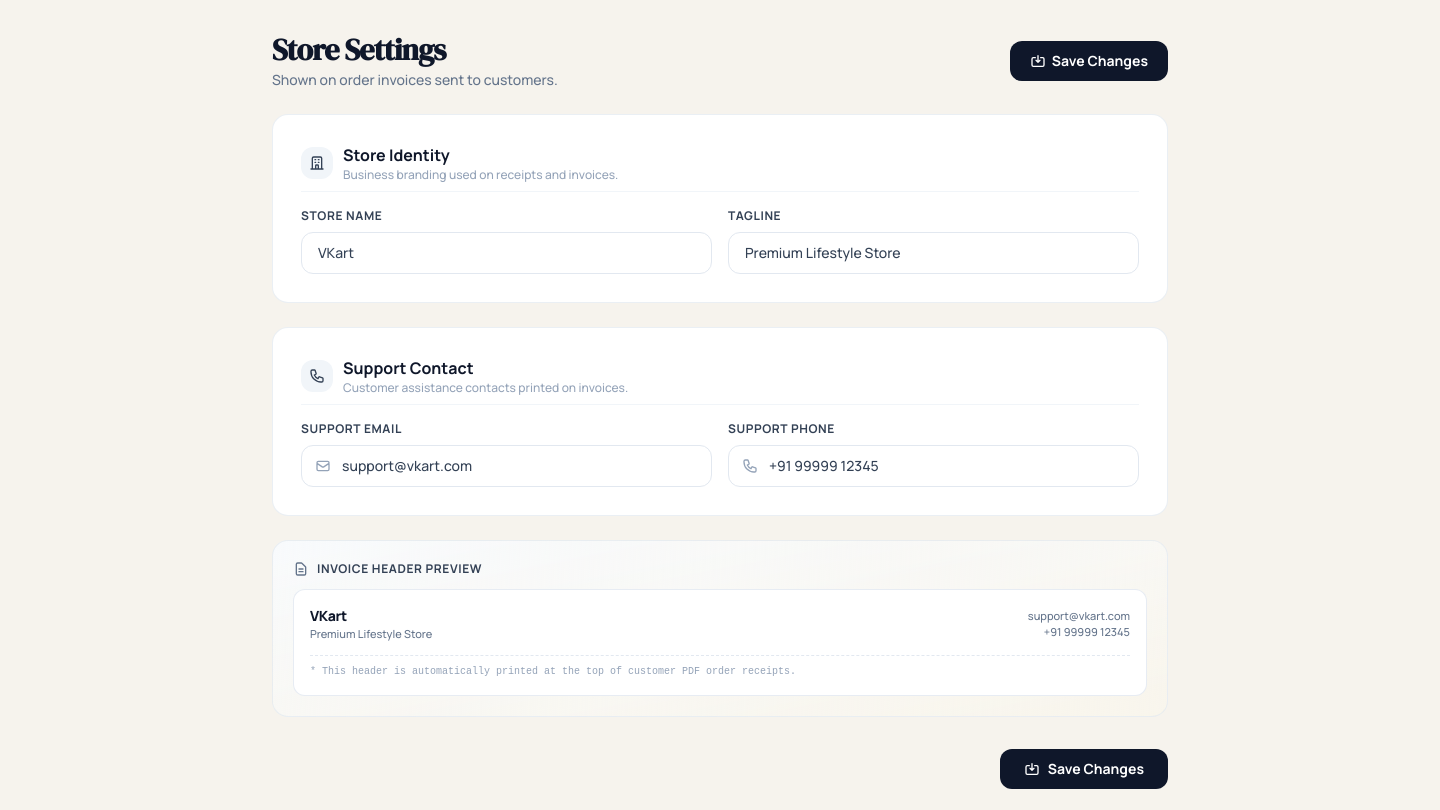
Test case: AdminSettings Component › saves updated settings
Replace the text in the field with placeholder "e.g. VKart" below "Store Name" with "VKart Prime": {"x": 506, "y": 253} [301,232,712,274]
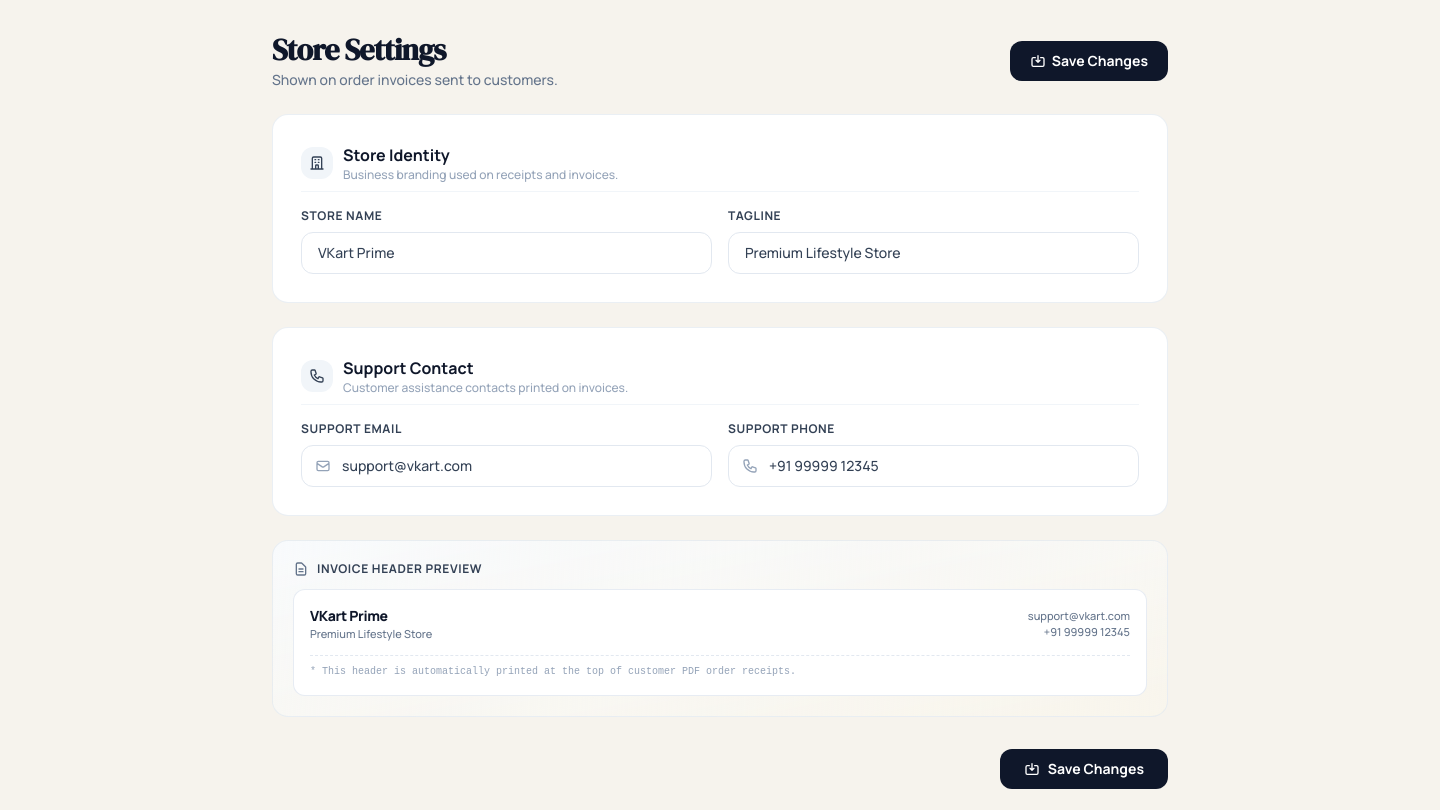
Click the button "Save Changes" in the row of "Store Settings": {"x": 1089, "y": 61} [1010,41,1168,81]
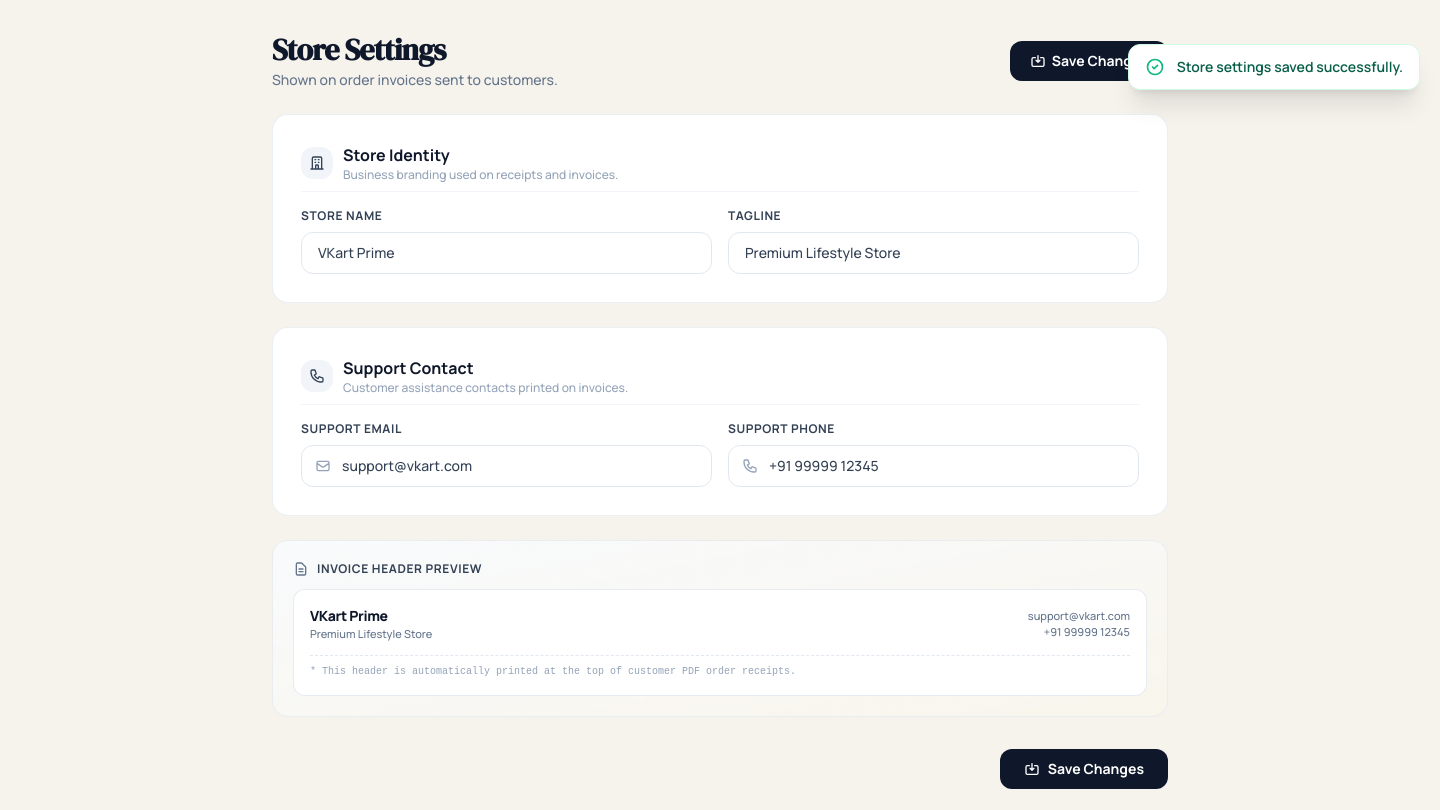
Result: the text "Store settings saved successfully." is shown at [1177,57,1403,77]
